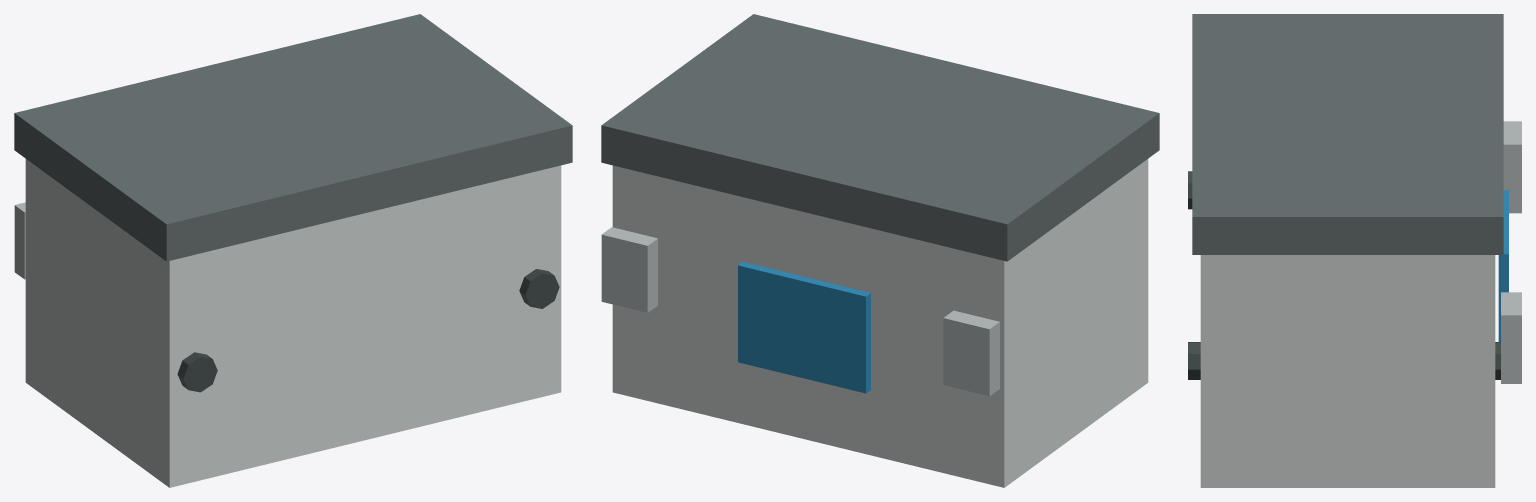
File: HomebaseInsulatedCooler_LOD00.gltf
3 renders of one model, left to right at view 1: azimuth 30°, elevation 25°; view 2: azimuth 150°, elevation 25°; view 3: azimuth 270°, elevation 25°, orthographic. The views are drawn at different scales.
Visible parts, largest first — view 1: HomebaseInsulatedCooler_node; view 2: HomebaseInsulatedCooler_node; view 3: HomebaseInsulatedCooler_node.
Part boxes in pixels (box(x1,y1,x2,y2)): HomebaseInsulatedCooler_node: box(14, 14, 572, 487); HomebaseInsulatedCooler_node: box(601, 14, 1159, 487); HomebaseInsulatedCooler_node: box(1188, 14, 1521, 487).
Bounding box in the file's own units: 0.57 × 0.38 × 0.3965.
